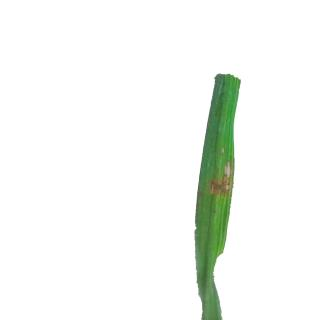Blast: (208, 157, 235, 200)
